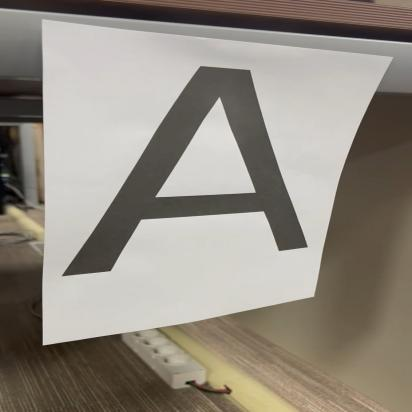seat: (70, 59, 317, 290)
